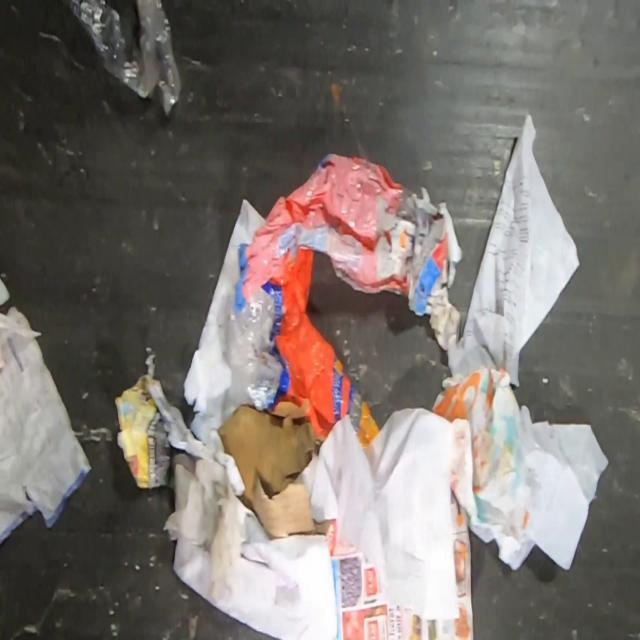cardboard: (218, 401, 332, 542)
soft_plastic: (229, 153, 409, 452), (62, 0, 182, 118)
